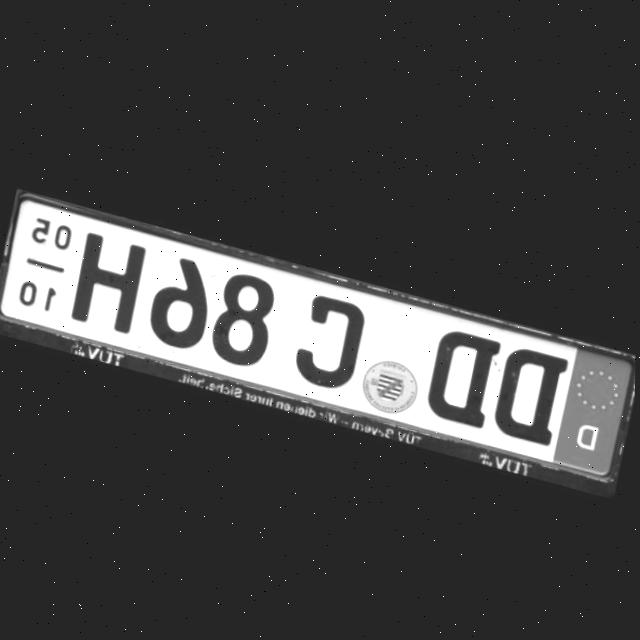license-plates: (0, 197, 634, 483)
